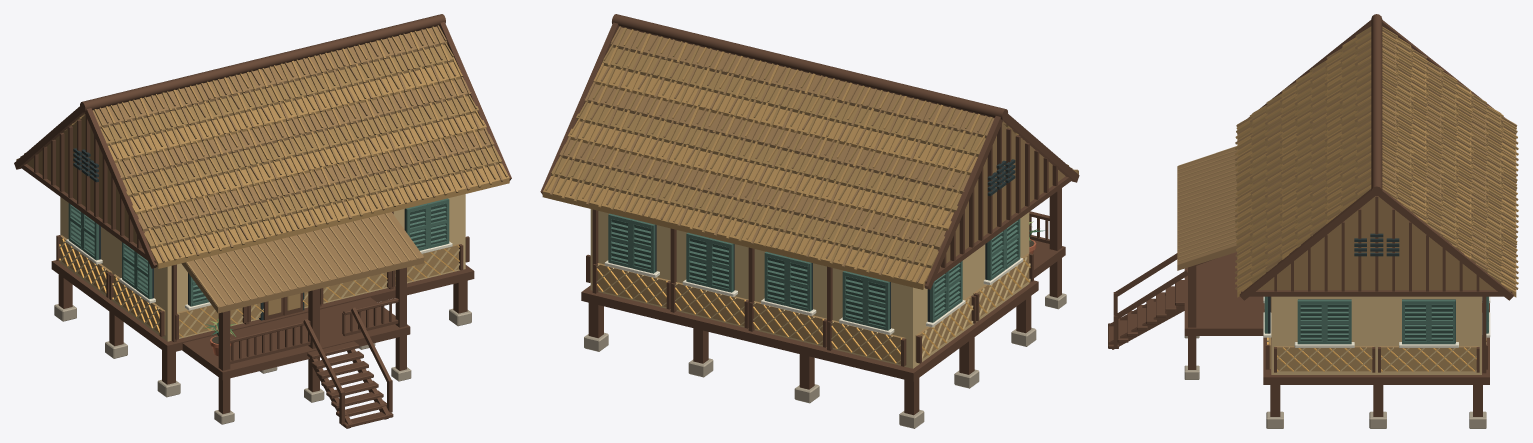
3 renders of one model, left to right at view 1: azimuth 30°, elevation 25°; view 2: azimuth 150°, elevation 25°; view 3: azimuth 270°, elevation 25°, orthographic. The views are drawn at different scales.
Visible parts, largest first — view 1: Layered palm thatch, Shaded serambi, Post and beam frame, Woven bamboo wall panels, Louvred shutters, Timber bargeboards, Verandah balustrades, Entrance joinery; view 2: Layered palm thatch, Post and beam frame, Louvred shutters, Woven bamboo wall panels, Timber bargeboards, Shaded serambi; view 3: Layered palm thatch, Post and beam frame, Shaded serambi, Louvred shutters, Woven bamboo wall panels, Timber bargeboards.
Part boxes in pixels (x1,y1,x2,y2): Layered palm thatch: [16, 14, 509, 268]; Shaded serambi: [181, 212, 424, 428]; Post and beam frame: [21, 116, 508, 397]; Woven bamboo wall panels: [56, 235, 469, 339]; Louvred shutters: [66, 198, 452, 310]; Timber bargeboards: [14, 22, 511, 268]; Verandah balustrades: [230, 298, 398, 364]; Entrance joinery: [259, 292, 304, 320]; Layered palm thatch: [542, 14, 1077, 289]; Post and beam frame: [543, 124, 1072, 428]; Louvred shutters: [604, 213, 1023, 335]; Woven bamboo wall panels: [586, 253, 1033, 366]; Timber bargeboards: [540, 22, 1079, 289]; Shaded serambi: [1033, 169, 1078, 309]; Layered palm thatch: [1234, 14, 1518, 297]; Post and beam frame: [1241, 196, 1512, 428]; Shaded serambi: [1108, 146, 1263, 379]; Louvred shutters: [1263, 296, 1490, 347]; Woven bamboo wall panels: [1265, 337, 1487, 372]; Timber bargeboards: [1239, 20, 1513, 300].
Size of the model in its own units: 10.89 by 7.54 by 10.96.
